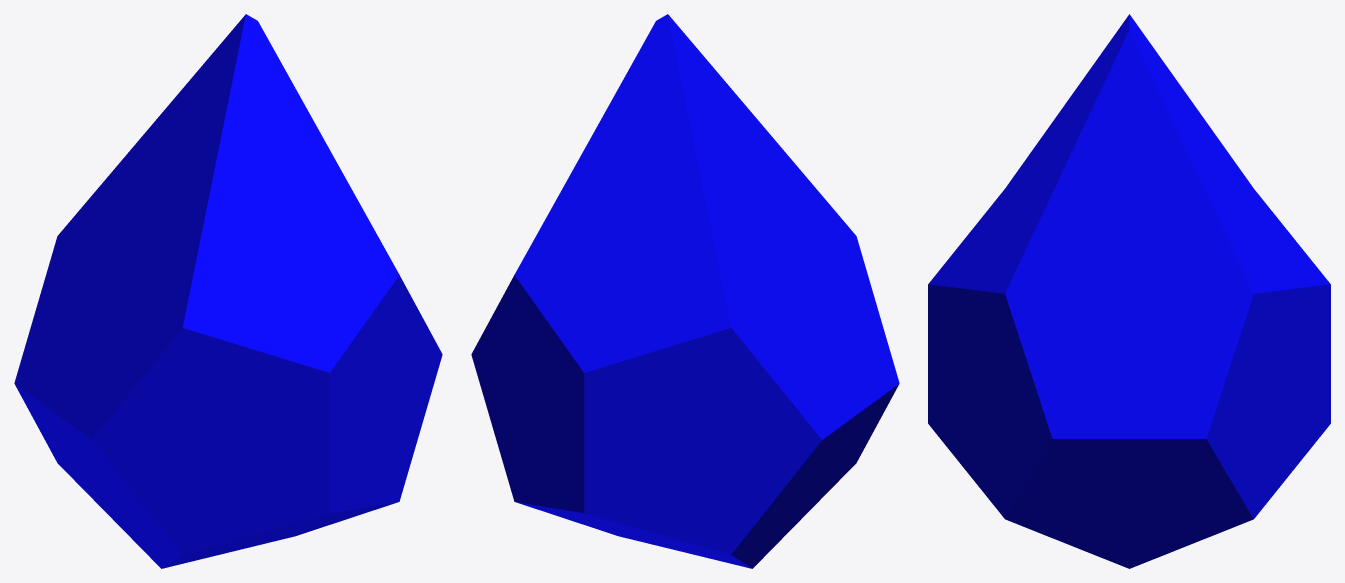
Rendered from crystal-BLUE.fbx.
3 renders of one model, left to right at view 1: azimuth 30°, elevation 25°; view 2: azimuth 150°, elevation 25°; view 3: azimuth 270°, elevation 25°, orthographic.
Parts seen in each view (by area): view 1: Empty_Mesh; view 2: Empty_Mesh; view 3: Empty_Mesh.
Part boxes in pixels (x1,y1,x2,y2): Empty_Mesh: (14,14,442,568); Empty_Mesh: (471,14,899,568); Empty_Mesh: (928,14,1330,568).
Bounding box in the file's own units: 187 × 272 × 187.
